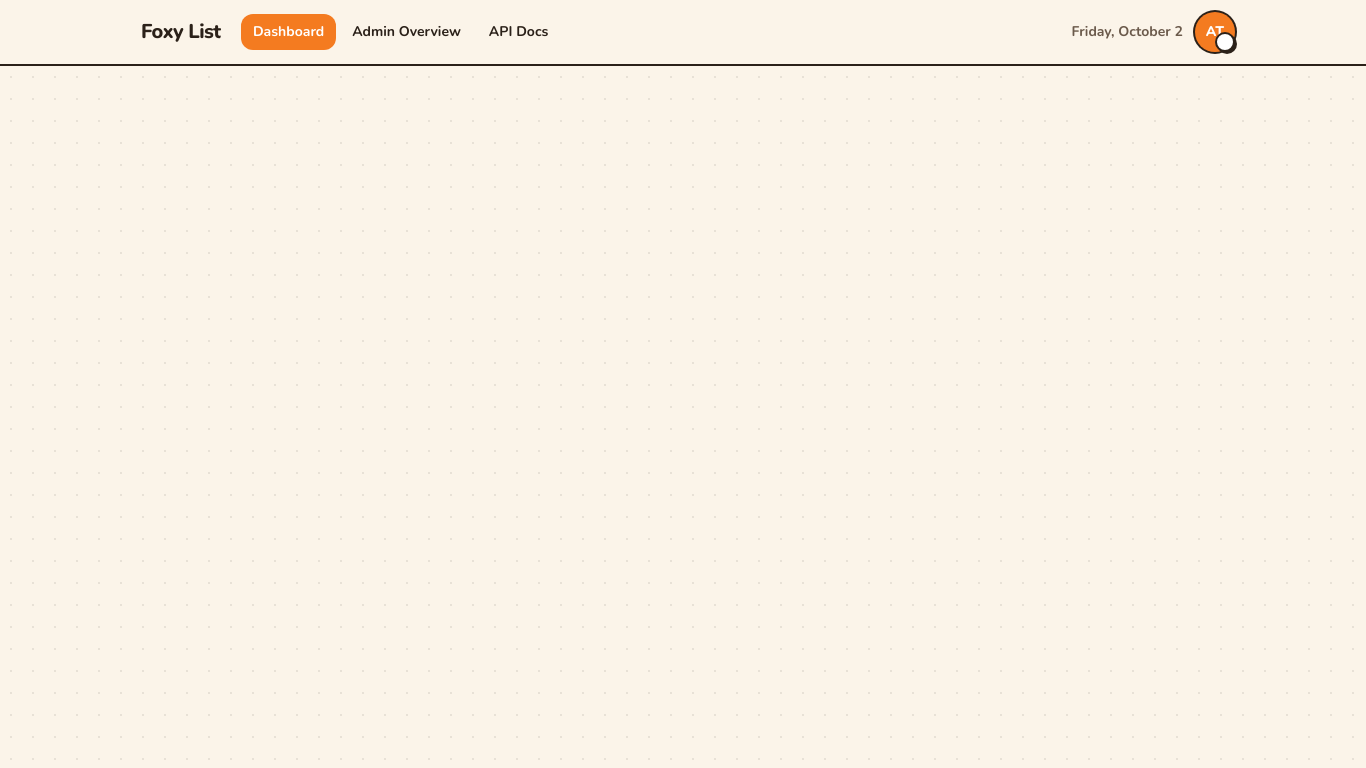
the section links in the account menu › keeps the sign-out action, separated from the section links
Click the button with aria-label "Open account menu".
click(1215, 32)  # box top-left (1195, 12), bottom-right (1235, 52)
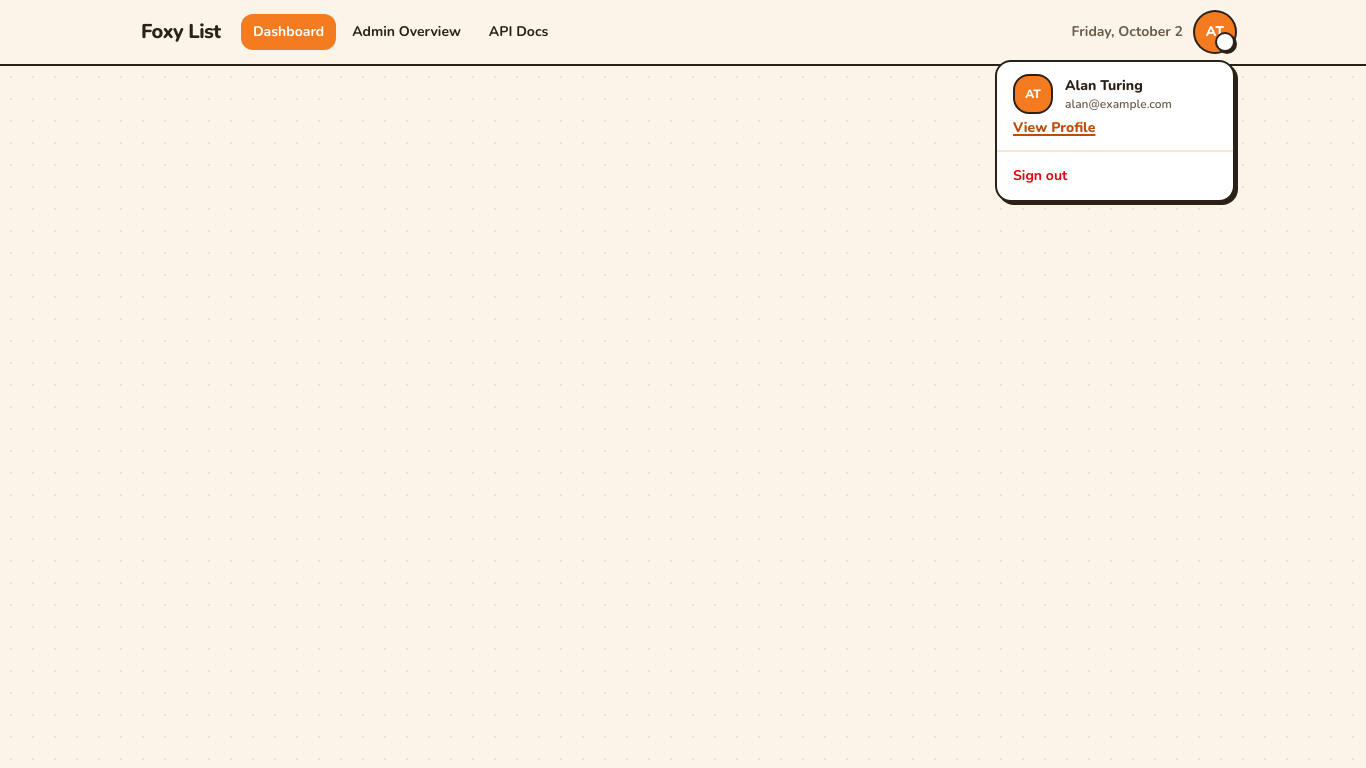
Result: the button "Sign out" is shown at top-left (997, 158), bottom-right (1233, 194)
